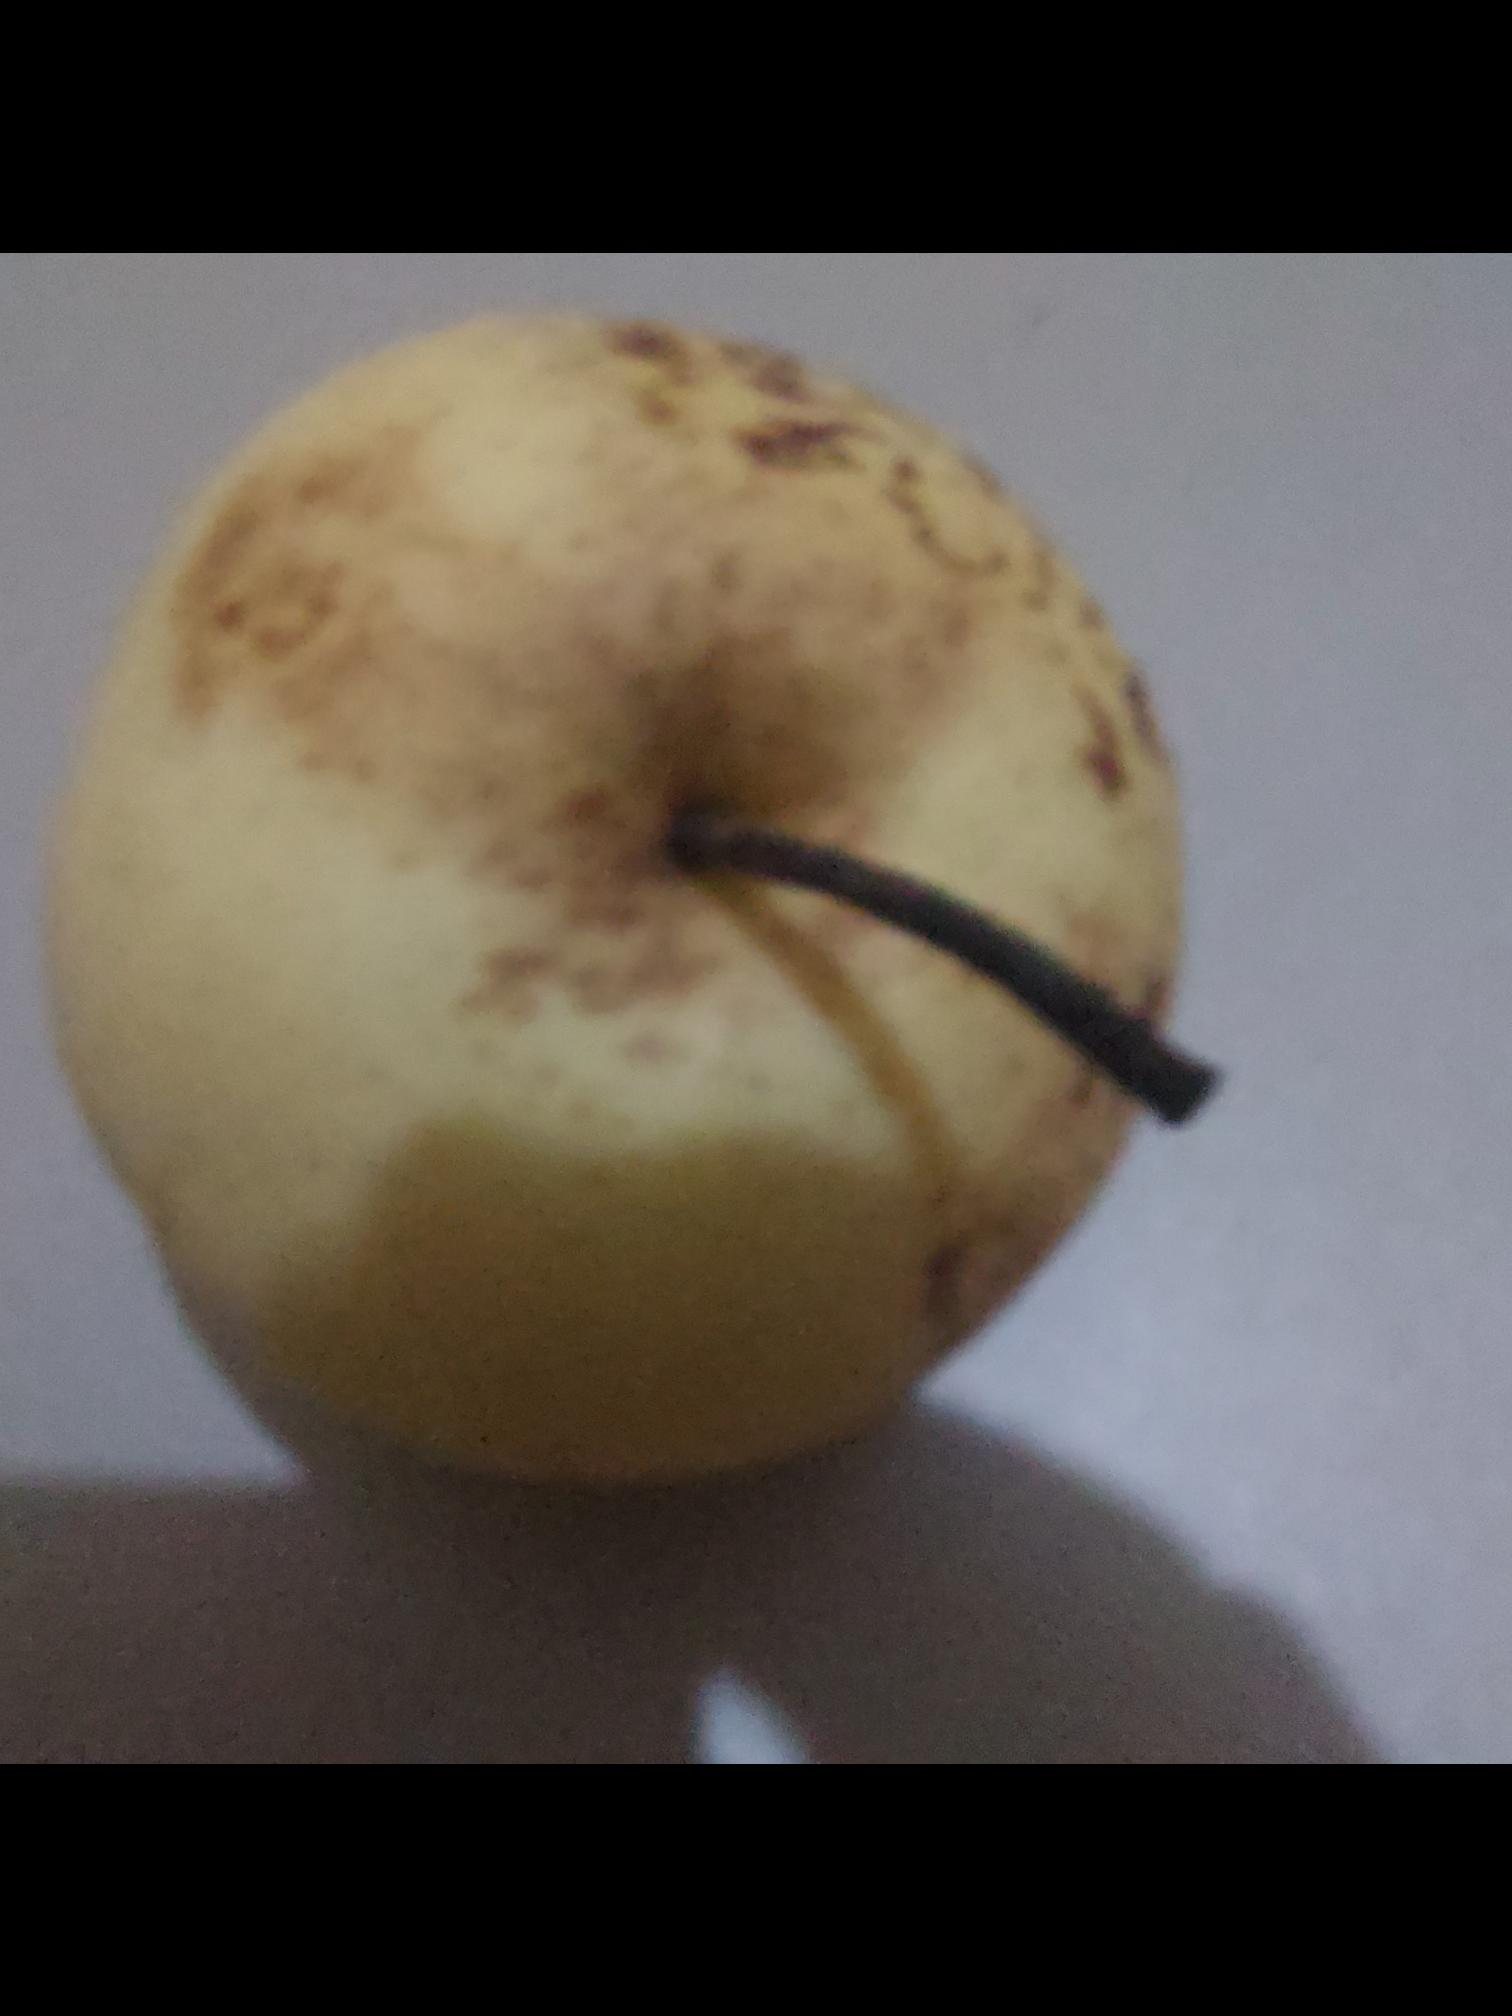Bad Pear: (32, 322, 1166, 1510)
